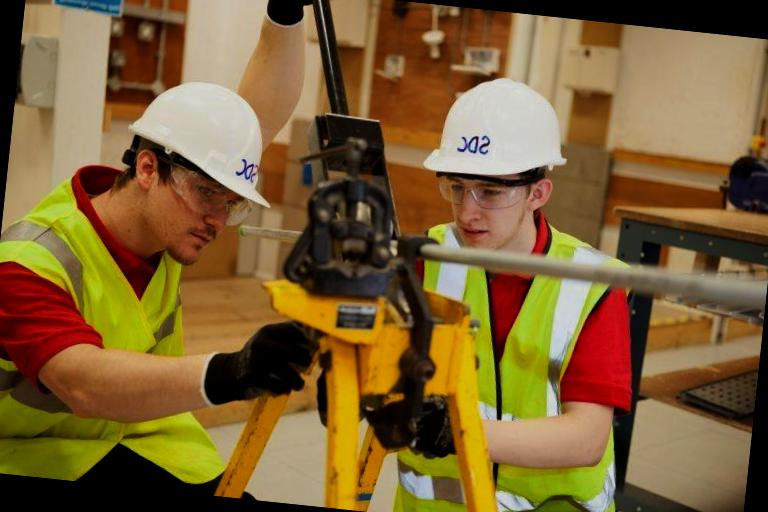helmet: (119, 76, 288, 216), (416, 64, 574, 194)
person: (355, 62, 675, 512), (0, 60, 290, 499)
